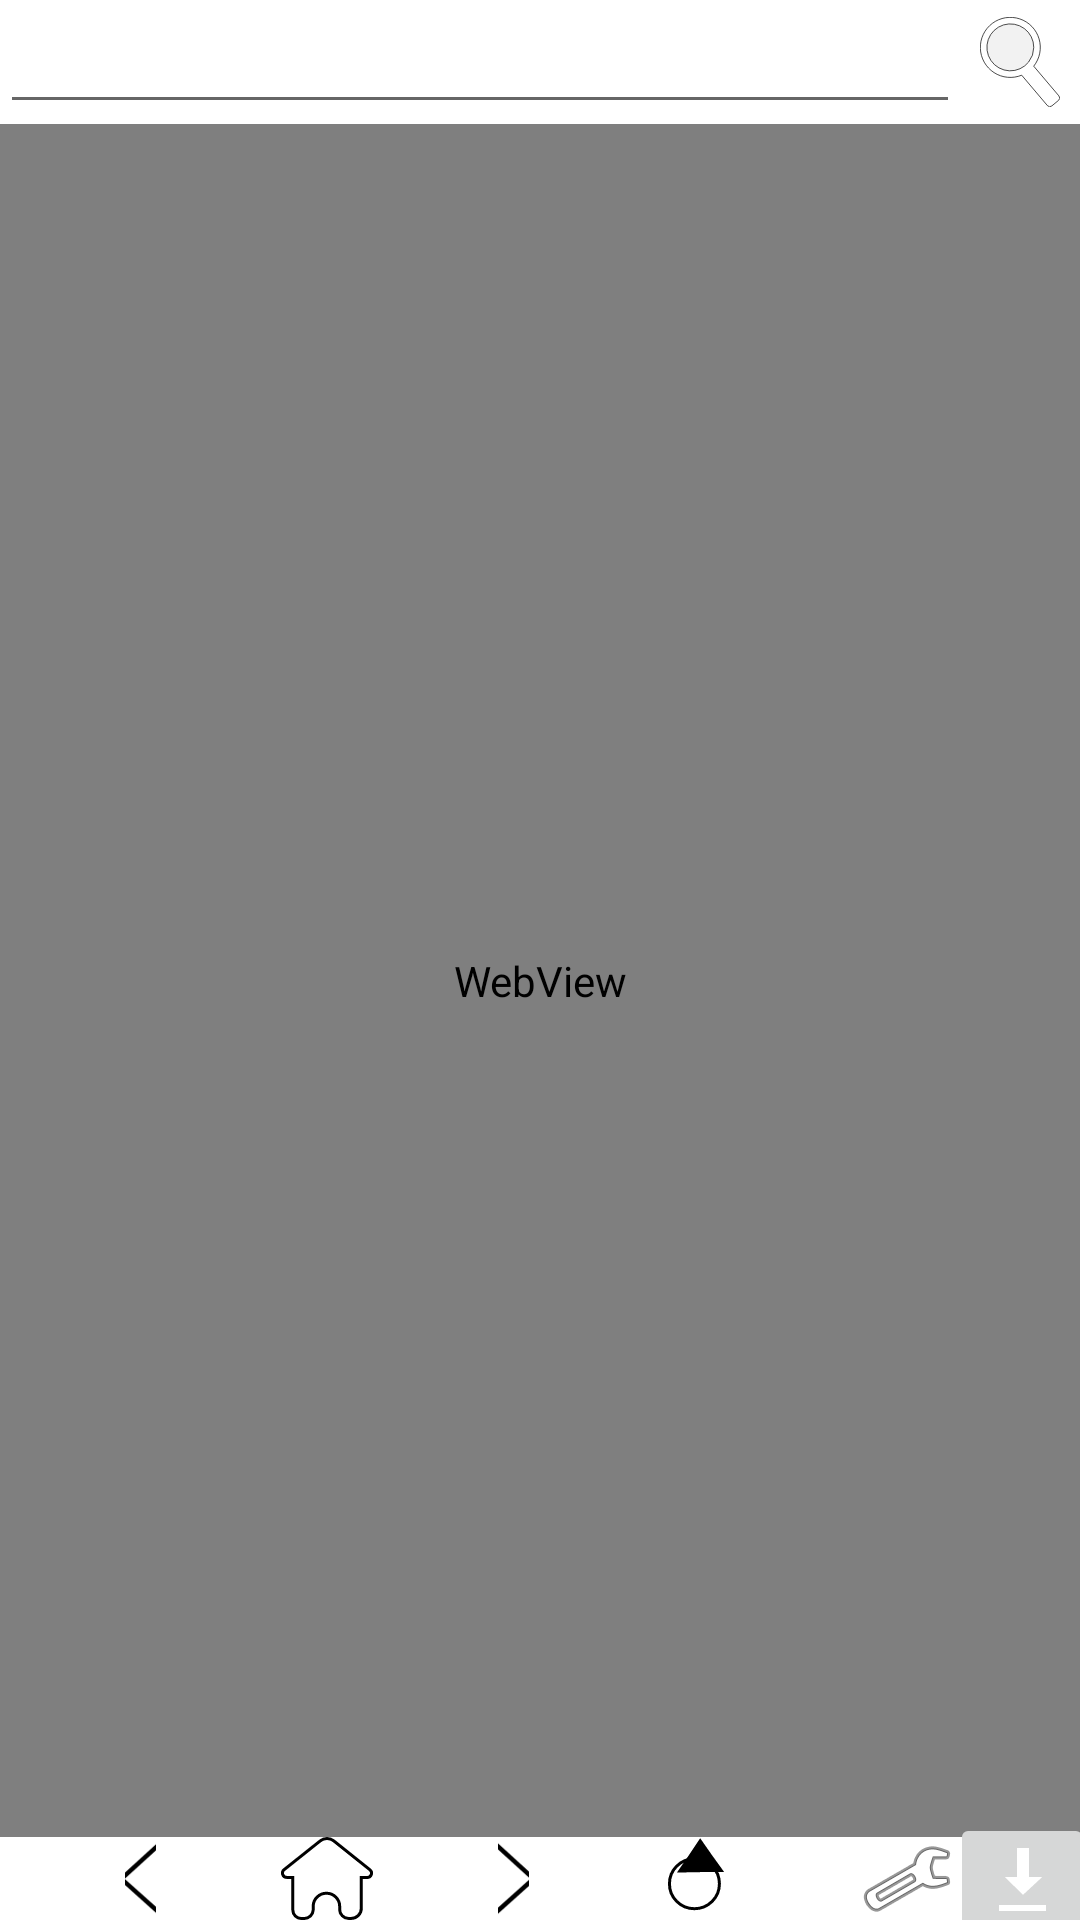

Screen size 1080x1920. Icon name, then its box in pixels as (x1, y1, x2, y2):
backward: (125, 1844, 156, 1913)
forward: (498, 1843, 529, 1914)
home: (281, 1837, 373, 1920)
manage: (864, 1846, 950, 1912)
reload: (668, 1838, 724, 1911)
search: (980, 17, 1060, 107)
